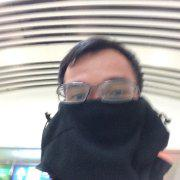OK: (59, 76, 139, 156)
